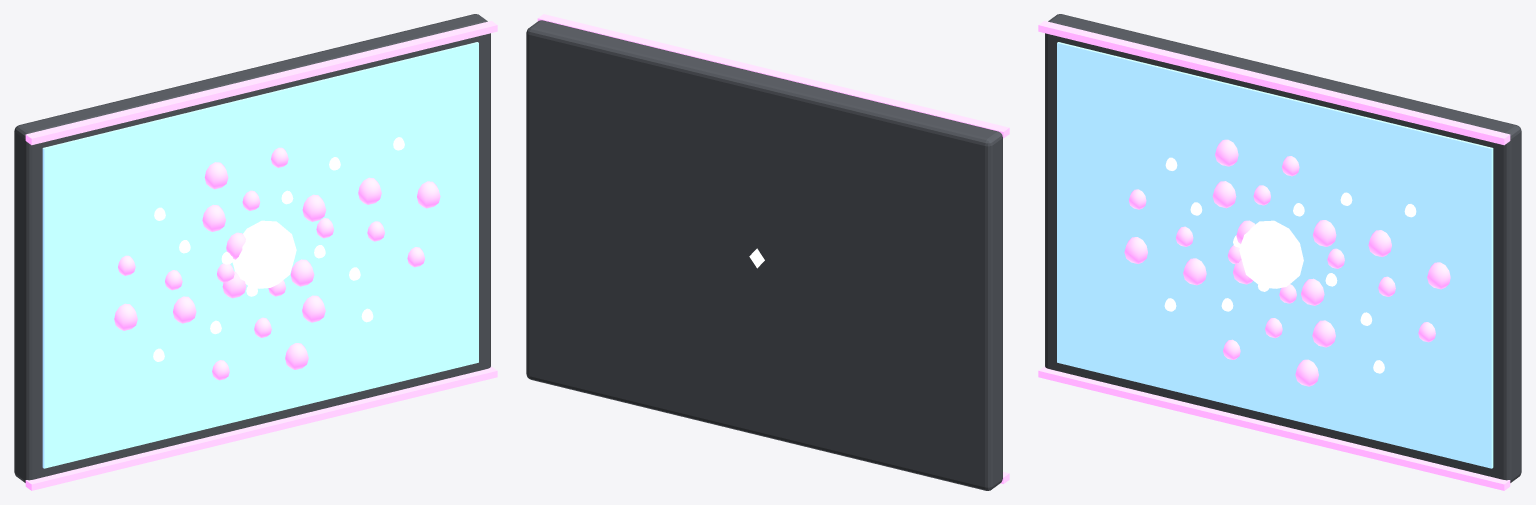
File: holo_poster_nebula.glb
3 renders of one model, left to right at view 1: azimuth 30°, elevation 25°; view 2: azimuth 150°, elevation 25°; view 3: azimuth 330°, elevation 25°, orthographic.
Parts seen in each view (by area): view 1: GD_holo_poster_nebula__m1, GD_holo_poster_nebula__m0, GD_holo_poster_nebula__m3, GD_holo_poster_nebula__m2; view 2: GD_holo_poster_nebula__m0, GD_holo_poster_nebula__m3; view 3: GD_holo_poster_nebula__m1, GD_holo_poster_nebula__m0, GD_holo_poster_nebula__m3, GD_holo_poster_nebula__m2.
Boxes of the visible parts, box(x1,y1,x2,y2) form: GD_holo_poster_nebula__m1: box(42, 42, 478, 468); GD_holo_poster_nebula__m0: box(14, 14, 490, 482); GD_holo_poster_nebula__m3: box(25, 21, 497, 490); GD_holo_poster_nebula__m2: box(153, 137, 404, 361); GD_holo_poster_nebula__m0: box(526, 20, 1002, 490); GD_holo_poster_nebula__m3: box(537, 14, 1009, 483); GD_holo_poster_nebula__m1: box(1057, 42, 1493, 468); GD_holo_poster_nebula__m0: box(1045, 14, 1521, 482); GD_holo_poster_nebula__m3: box(1038, 21, 1510, 490); GD_holo_poster_nebula__m2: box(1164, 157, 1416, 373).
Bounding box in the file's own units: 0.9 × 0.65 × 0.12.
